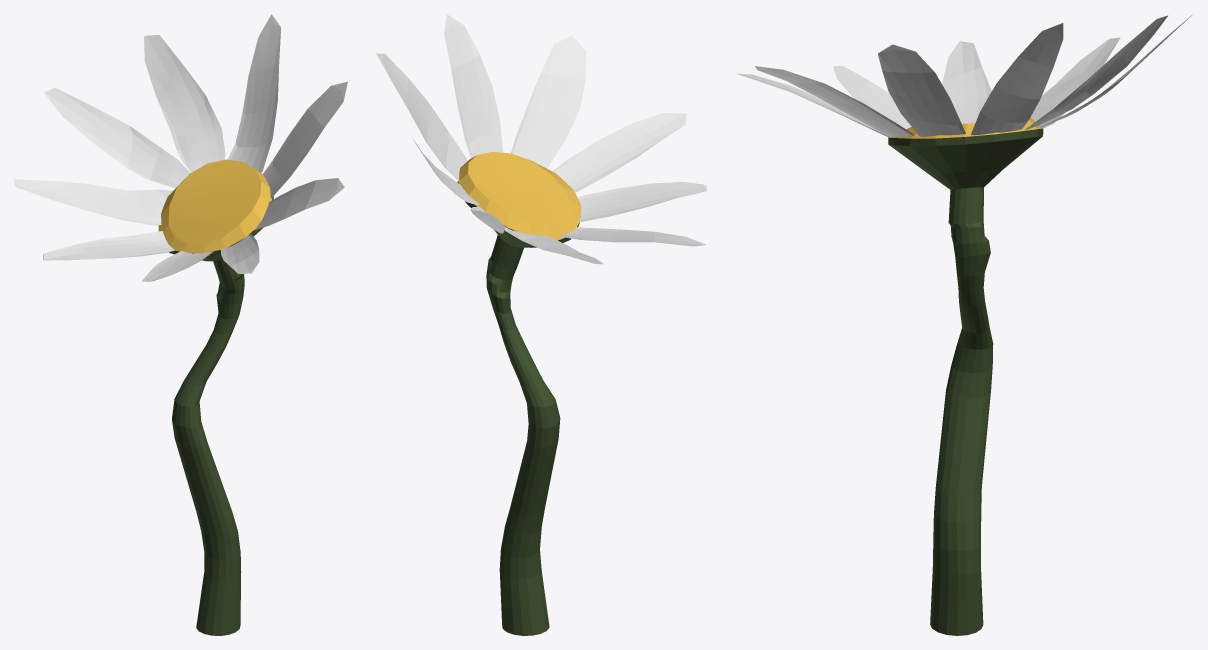
3 views of the same model, side by side, from view 1: azimuth 30°, elevation 25°; view 2: azimuth 150°, elevation 25°; view 3: azimuth 270°, elevation 25° (orthographic). The views are drawn at different scales.
Visible parts, largest first — view 1: Flower, Stem; view 2: Flower, Stem; view 3: Stem, Flower.
Boxes of the visible parts, box(x1,y1,x2,y2) form: Flower: box(14, 14, 347, 282); Stem: box(158, 159, 273, 635); Flower: box(376, 14, 706, 264); Stem: box(457, 152, 581, 635); Stem: box(888, 117, 1043, 635); Flower: box(736, 15, 1191, 137).
Bounding box in the file's own units: 420 × 807 × 509.
